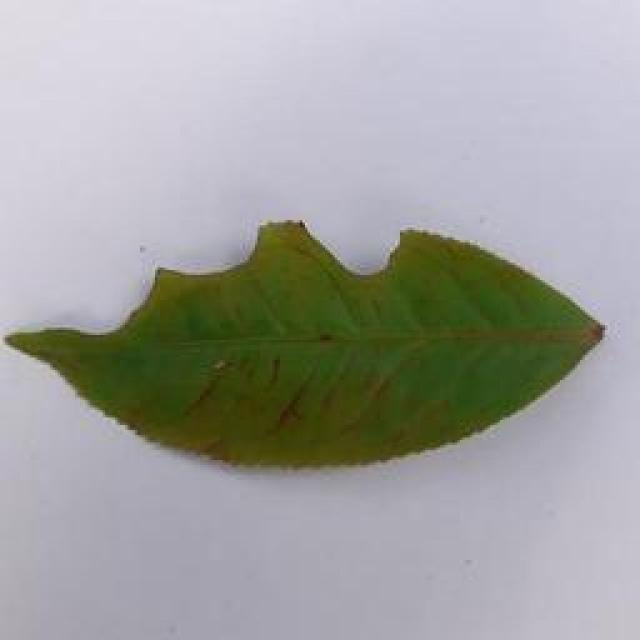Red Leaf Spot: (0, 200, 630, 495)
